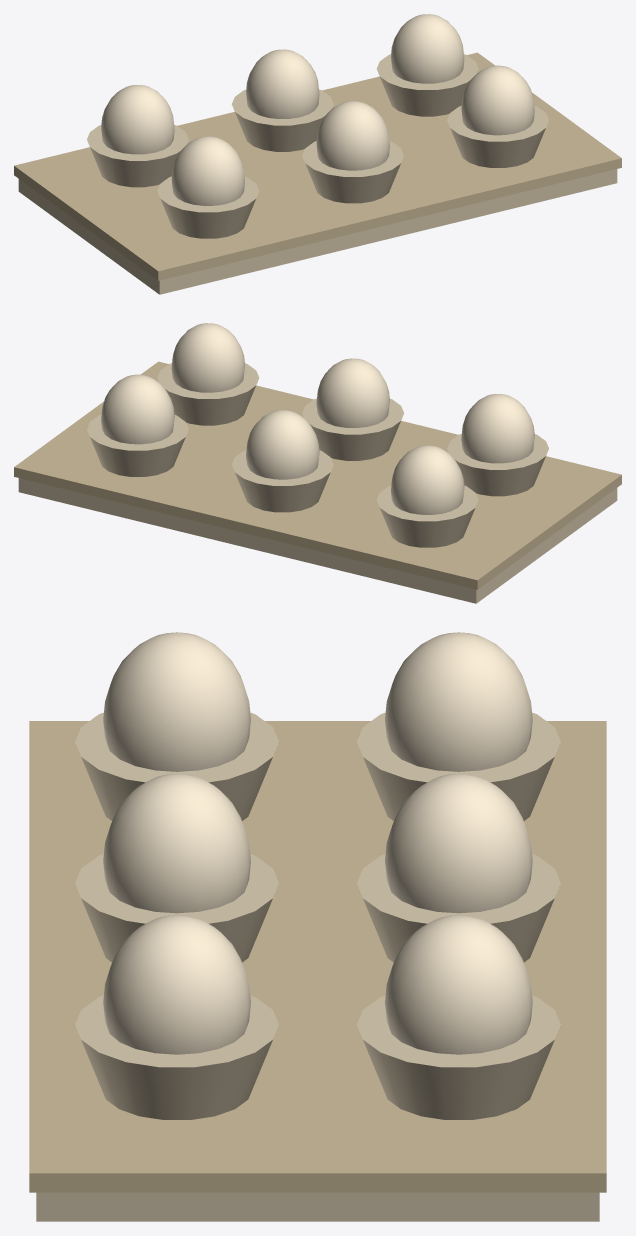
The model's file is home_food_egg_carton.glb.
3 views of the same model, one above another, from view 1: azimuth 30°, elevation 25°; view 2: azimuth 150°, elevation 25°; view 3: azimuth 270°, elevation 25° (orthographic). The views are drawn at different scales.
Size of the model in its own units: 0.304 by 0.0686 by 0.164.
